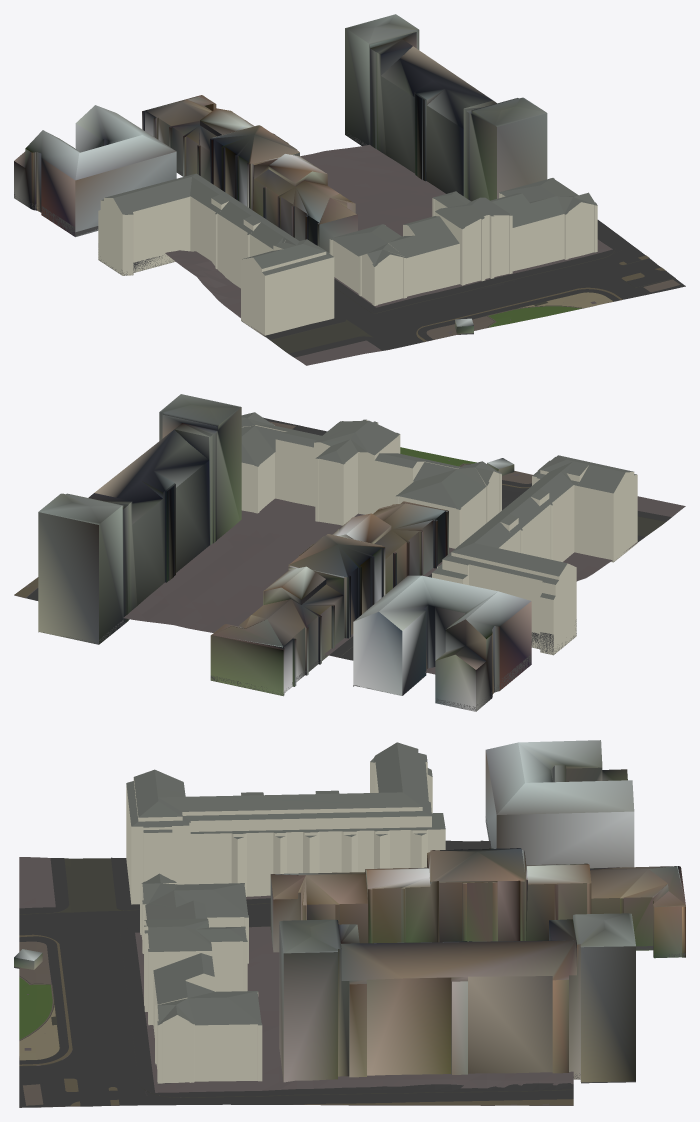
3 renders of one model, top to bottom at view 1: azimuth 30°, elevation 25°; view 2: azimuth 150°, elevation 25°; view 3: azimuth 270°, elevation 25°, orthographic. The views are drawn at different scales.
Visible parts, largest first — view 1: c_p03_m05; view 2: c_p03_m05; view 3: c_p03_m05.
Boxes of the visible parts, bbox=[...] form: c_p03_m05: bbox=[14, 14, 685, 365]; c_p03_m05: bbox=[14, 394, 685, 711]; c_p03_m05: bbox=[14, 740, 685, 1107].
Size of the model in its own units: 146 by 35.9 by 155.
